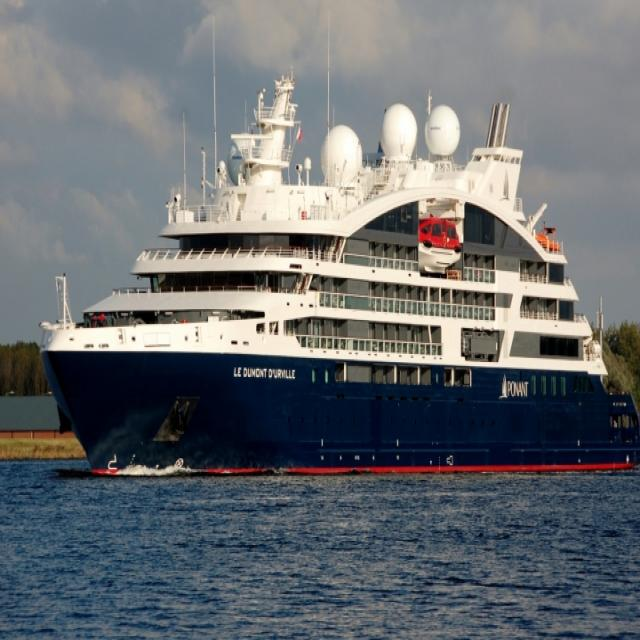cruises: (36, 63, 640, 483)
